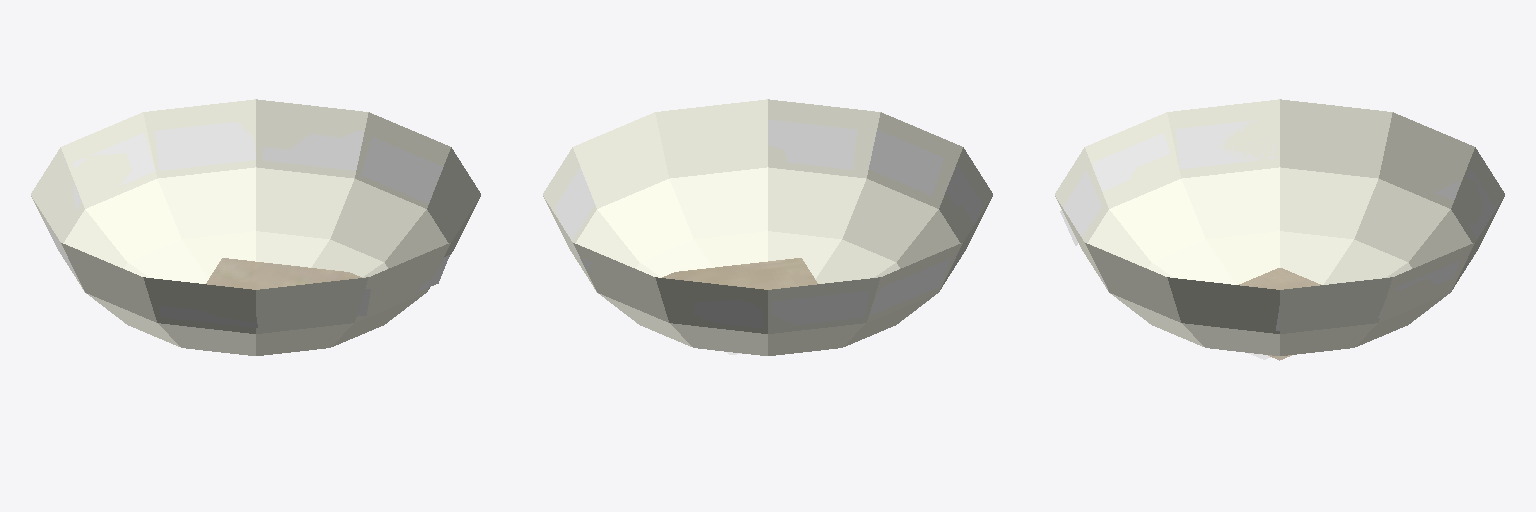
3 views of the same model, side by side, from view 1: azimuth 30°, elevation 25°; view 2: azimuth 150°, elevation 25°; view 3: azimuth 270°, elevation 25° (orthographic).
Parts seen in each view (by area): view 1: mesh1_mesh1-geometry, mesh9_mesh9-geometry, mesh13_mesh13-geometry, mesh2_mesh2-geometry, mesh11_mesh11-geometry, mesh10_mesh10-geometry, mesh5_mesh5-geometry; view 2: mesh1_mesh1-geometry, mesh12_mesh12-geometry, mesh2_mesh2-geometry, mesh8_mesh8-geometry, mesh6_mesh6-geometry, mesh3_mesh3-geometry, mesh13_mesh13-geometry, mesh10_mesh10-geometry, mesh5_mesh5-geometry; view 3: mesh1_mesh1-geometry, mesh4_mesh4-geometry, mesh5_mesh5-geometry, mesh8_mesh8-geometry, mesh2_mesh2-geometry, mesh10_mesh10-geometry, mesh11_mesh11-geometry.
Part boxes in pixels (x1,y1,x2,y2): mesh1_mesh1-geometry: (31, 99, 480, 355); mesh9_mesh9-geometry: (155, 122, 255, 170); mesh13_mesh13-geometry: (361, 137, 442, 203); mesh2_mesh2-geometry: (206, 258, 361, 289); mesh11_mesh11-geometry: (262, 130, 363, 170); mesh10_mesh10-geometry: (73, 133, 155, 184); mesh5_mesh5-geometry: (159, 305, 257, 327); mesh1_mesh1-geometry: (543, 99, 992, 355); mesh12_mesh12-geometry: (768, 120, 856, 169); mesh2_mesh2-geometry: (662, 258, 817, 289); mesh8_mesh8-geometry: (869, 130, 943, 195); mesh6_mesh6-geometry: (770, 291, 868, 324); mesh3_mesh3-geometry: (869, 258, 950, 315); mesh13_mesh13-geometry: (555, 167, 594, 240); mesh10_mesh10-geometry: (693, 299, 764, 328); mesh5_mesh5-geometry: (946, 164, 983, 224); mesh1_mesh1-geometry: (1055, 99, 1504, 355); mesh4_mesh4-geometry: (1175, 120, 1276, 168); mesh5_mesh5-geometry: (1093, 133, 1169, 190); mesh8_mesh8-geometry: (1060, 171, 1101, 245); mesh2_mesh2-geometry: (1239, 268, 1320, 360); mesh10_mesh10-geometry: (1466, 168, 1495, 238); mesh11_mesh11-geometry: (1378, 260, 1460, 318).
Size of the model in its own units: 0.6917 by 0.2075 by 0.6917.
Materials: 4 (1 with a texture image).